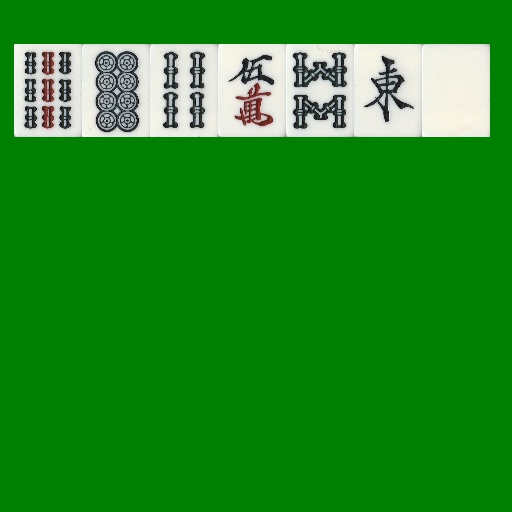4s: (150, 44, 218, 137)
5m: (218, 44, 286, 137)
8p: (82, 44, 150, 137)
8s: (286, 44, 354, 137)
9s: (14, 44, 82, 137)
east: (354, 44, 422, 137)
white: (422, 44, 490, 137)
